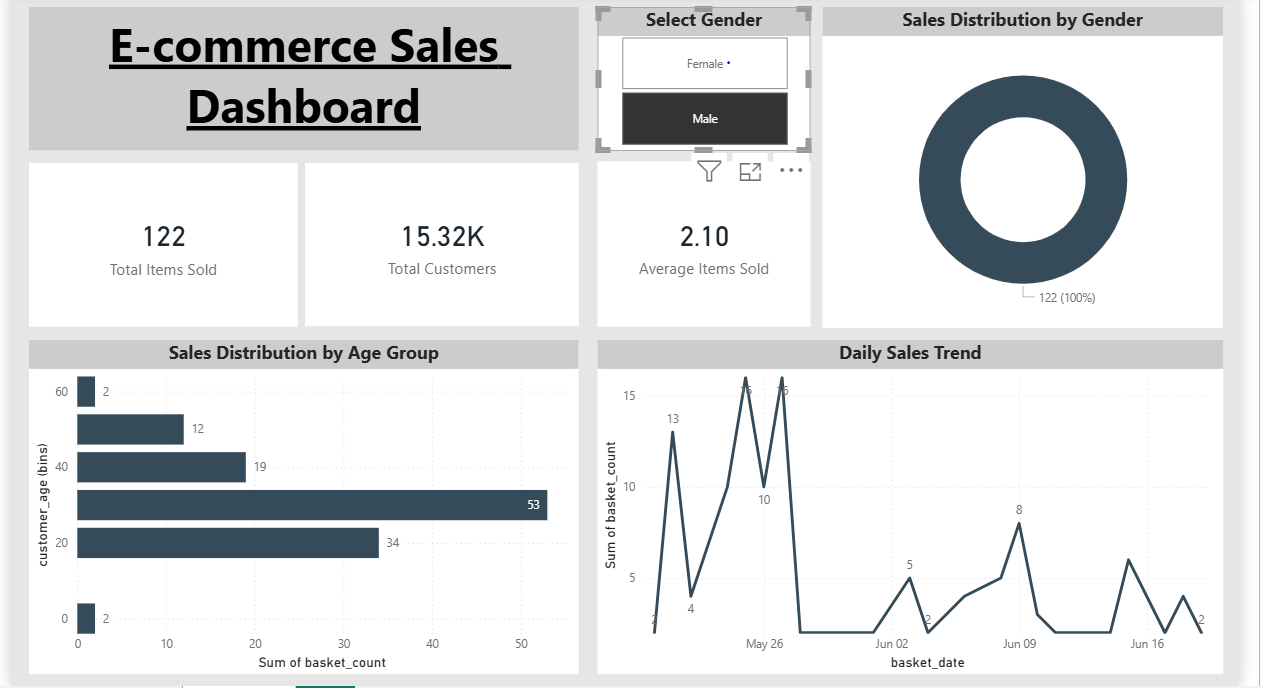

The dashboard page shown, as its layout file describes it:
{"tool":"powerbi","page":{"name":"Page 1","canvas":[1280,720],"ordinal":0},"visuals":[{"type":"card","fields":{"Values":["Sum(ecommerce_db basket_details.basket_count)"]},"box":[18.8,175.1,279.8,170.4],"z":0},{"type":"card","fields":{"Values":["Count(ecommerce_db customer_details.customer_id)"]},"box":[306.1,175.7,285.4,170.1],"z":1000},{"type":"donutChart","title":"Sales Distribution by Gender ","fields":{"Category":["ecommerce_db customer_details.sex"],"Y":["Sum(ecommerce_db basket_details.basket_count)"]},"box":[845.6,12.5,417.3,334.5],"z":2000},{"type":"lineChart","title":"Daily Sales Trend","fields":{"Category":["ecommerce_db basket_details.basket_date"],"Y":["Sum(ecommerce_db basket_details.basket_count)"]},"box":[610.4,359.1,652,347.7],"z":3000},{"type":"slicer","title":"Select Gender","fields":{"Values":["ecommerce_db customer_details.sex"]},"box":[611.1,12.5,221.9,150],"z":4000},{"type":"textbox","box":[18.9,13.2,572.6,149.3],"z":5000},{"type":"clusteredBarChart","title":"Sales Distribution by Age Group","fields":{"Category":["ecommerce_db customer_details.customer_age (bins)"],"Y":["Sum(ecommerce_db basket_details.basket_count)"]},"box":[18.9,359.1,572.6,347.7],"z":6000},{"type":"card","fields":{"Values":["Avg(ecommerce_db basket_details.basket_count)"]},"box":[611.1,173.5,221.9,171.9],"z":7000}]}

Visuals, with their boxes on the page's 1280x720 design canvas (x1, y1, x2, y2). These are canvas units, not pixel positions in the 1263x688 screenshot, which may show the page scaled, cropped or inside an application window:
card - Sum(ecommerce_db basket_details.basket_count): Rect(19, 175, 299, 346)
card - Count(ecommerce_db customer_details.customer_id): Rect(306, 176, 592, 346)
"Sales Distribution by Gender " donutChart: Rect(846, 12, 1263, 347)
"Daily Sales Trend" lineChart: Rect(610, 359, 1262, 707)
"Select Gender" slicer: Rect(611, 12, 833, 162)
textbox: Rect(19, 13, 592, 162)
"Sales Distribution by Age Group" clusteredBarChart: Rect(19, 359, 592, 707)
card - Avg(ecommerce_db basket_details.basket_count): Rect(611, 174, 833, 345)
